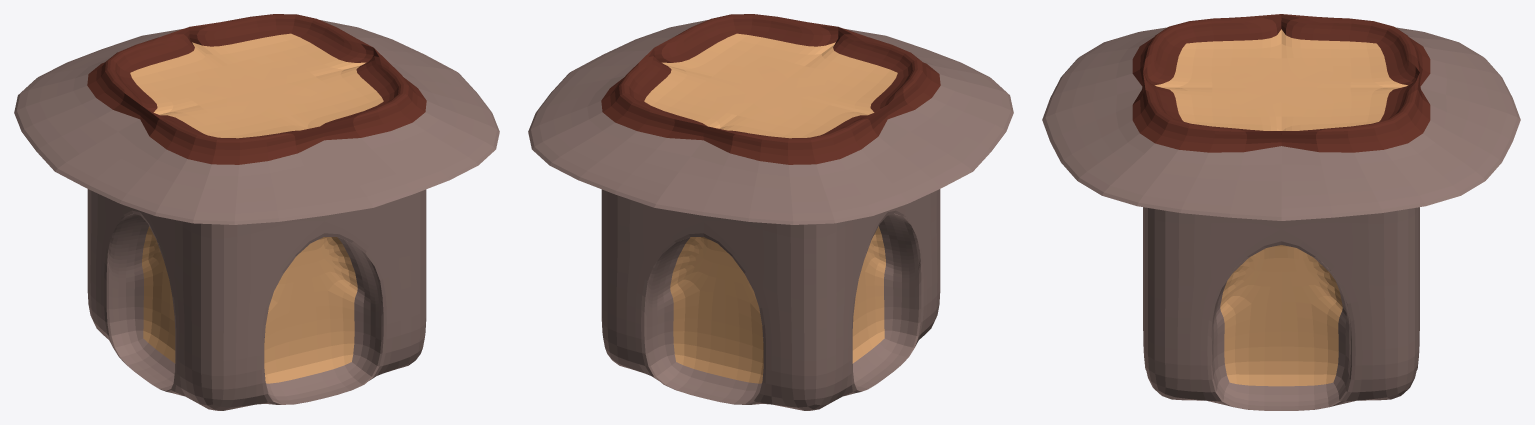
File: tier.fbx
3 views of the same model, side by side, from view 1: azimuth 30°, elevation 25°; view 2: azimuth 150°, elevation 25°; view 3: azimuth 270°, elevation 25° (orthographic). The views are drawn at different scales.
Visible parts, largest first — view 1: Cube; view 2: Cube; view 3: Cube.
Part boxes in pixels (x1=…): Cube: x1=14, y1=14, x2=499, y2=410; Cube: x1=528, y1=14, x2=1013, y2=410; Cube: x1=1042, y1=14, x2=1520, y2=410.
Bounding box in the file's own units: 173 × 112 × 173.
